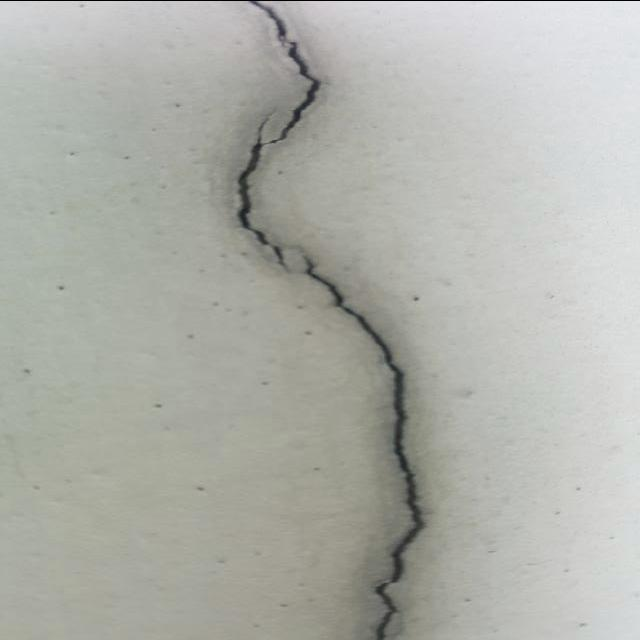SurfaceCrack: (199, 0, 459, 639)
